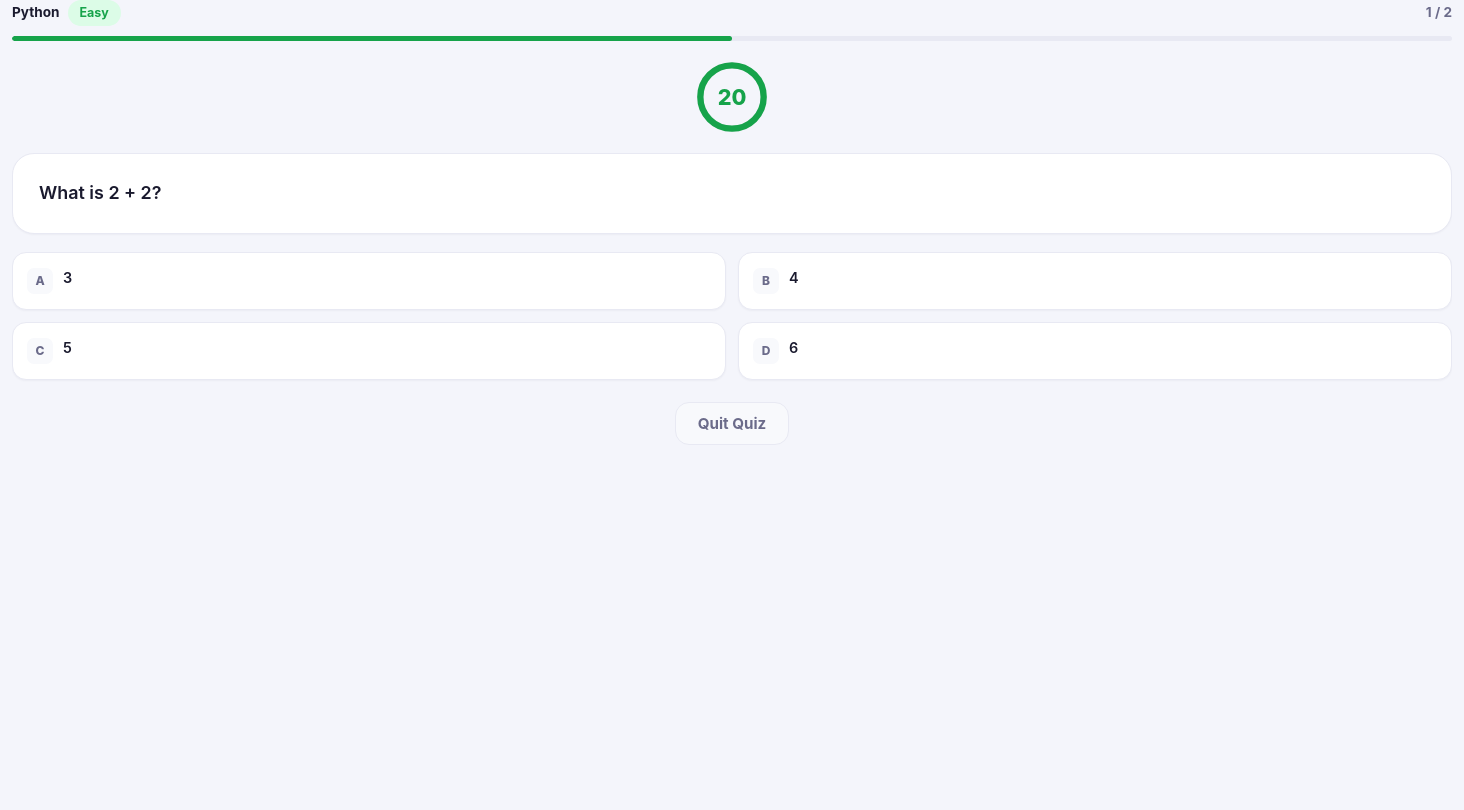
Quiz › submits the selected answer and shows correct feedback
Click the text "4" at coordinates (794, 278), box [789,268,799,288]
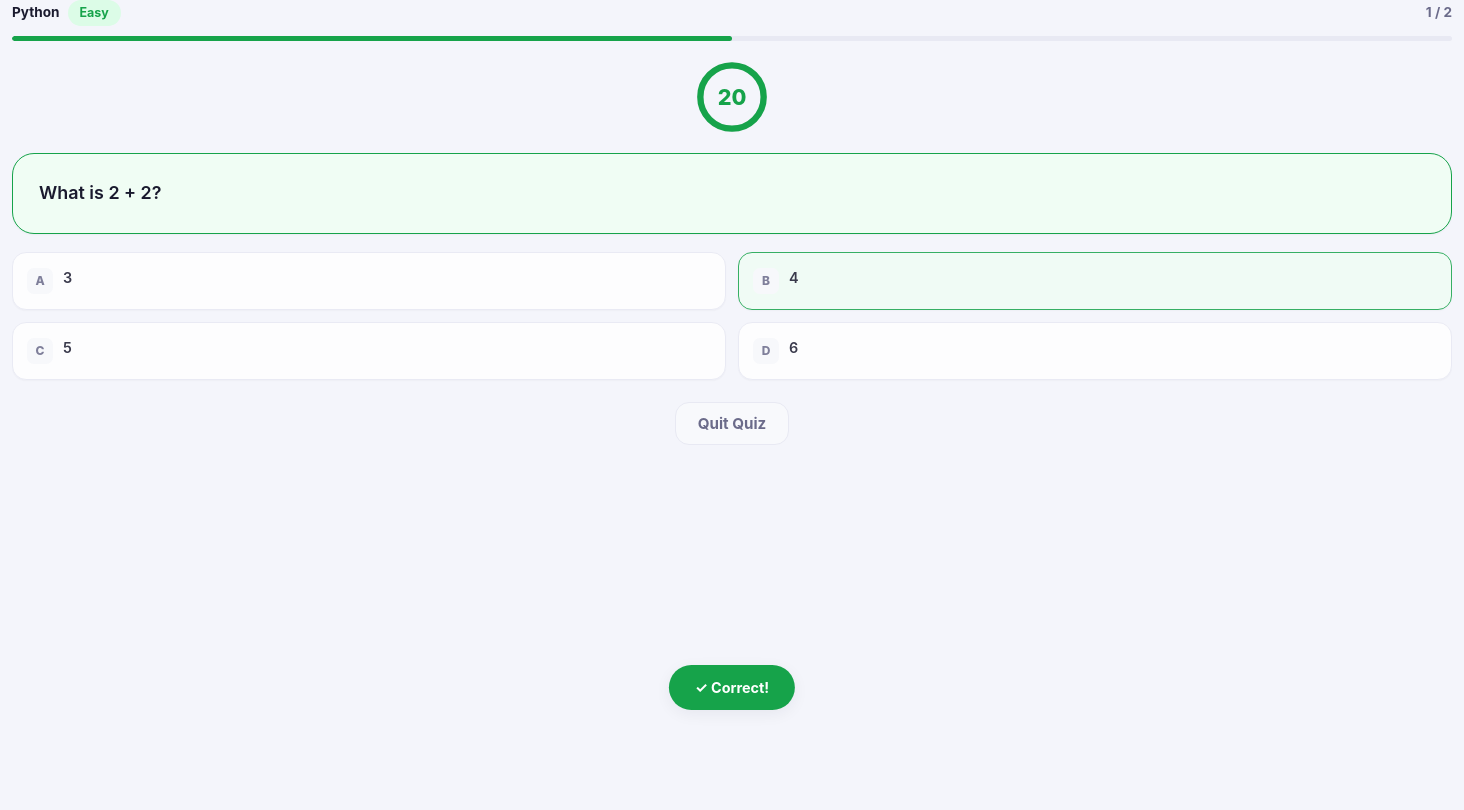
Now the text "✓ Correct!" is shown, box [669,665,795,710]
